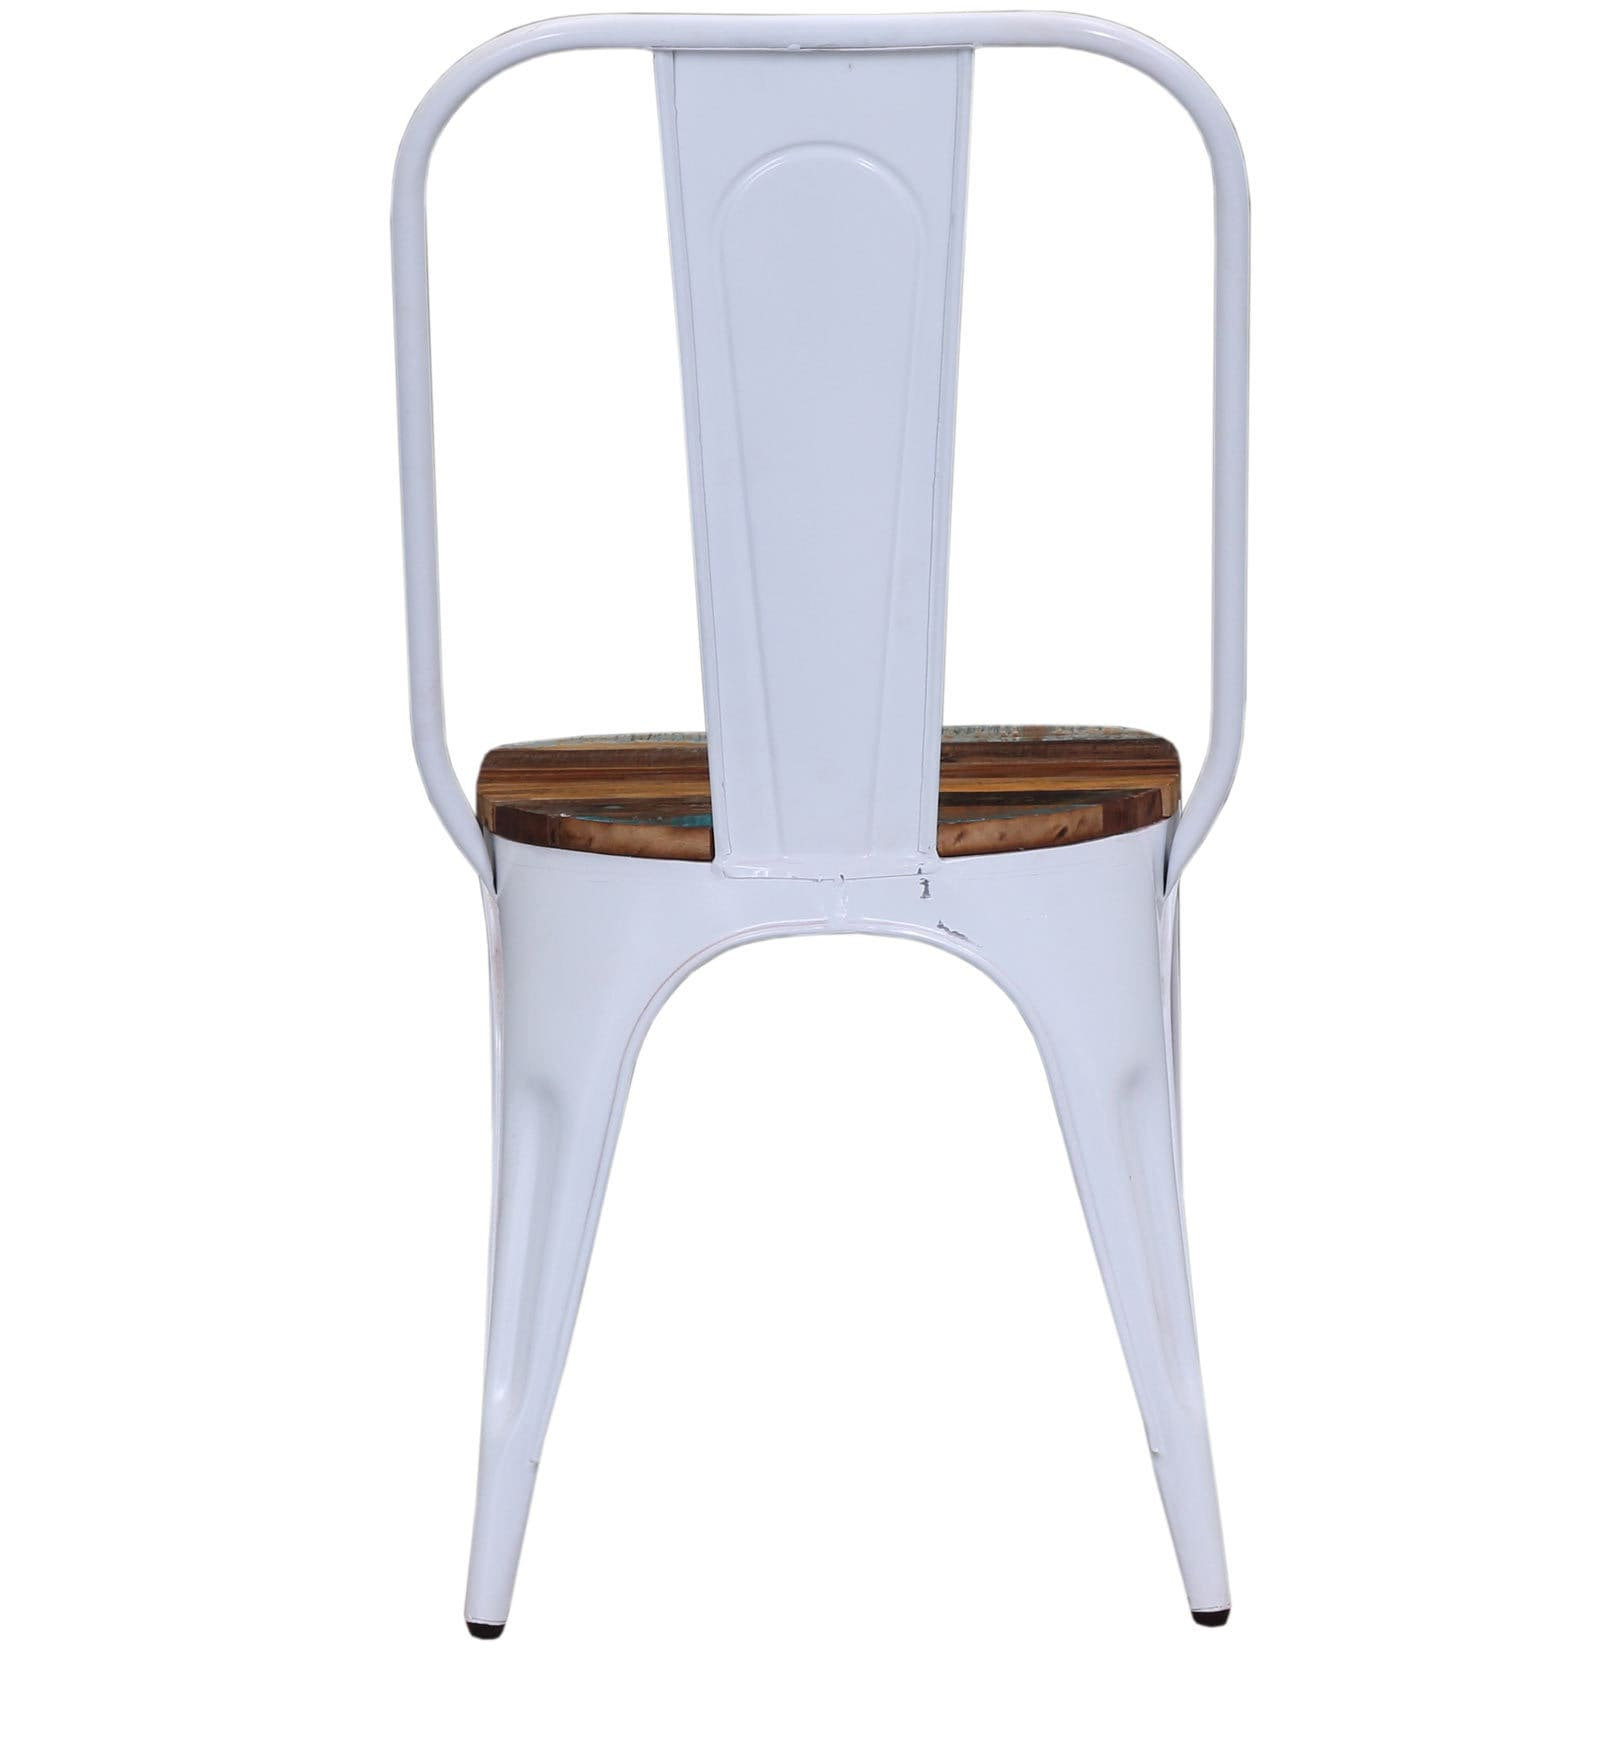Ekati Metal Chair in White Color with Wooden Seat by Bohemiana: (343, 2, 1350, 1682)
